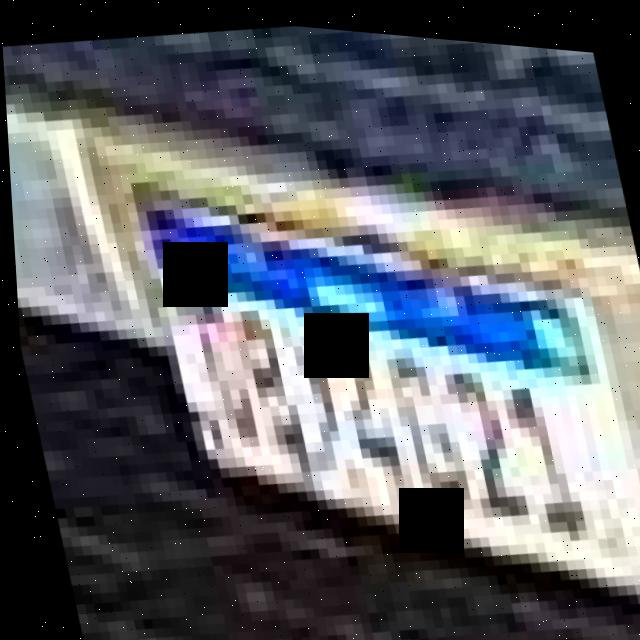4: (324, 327, 416, 515)
G: (376, 338, 468, 511)
